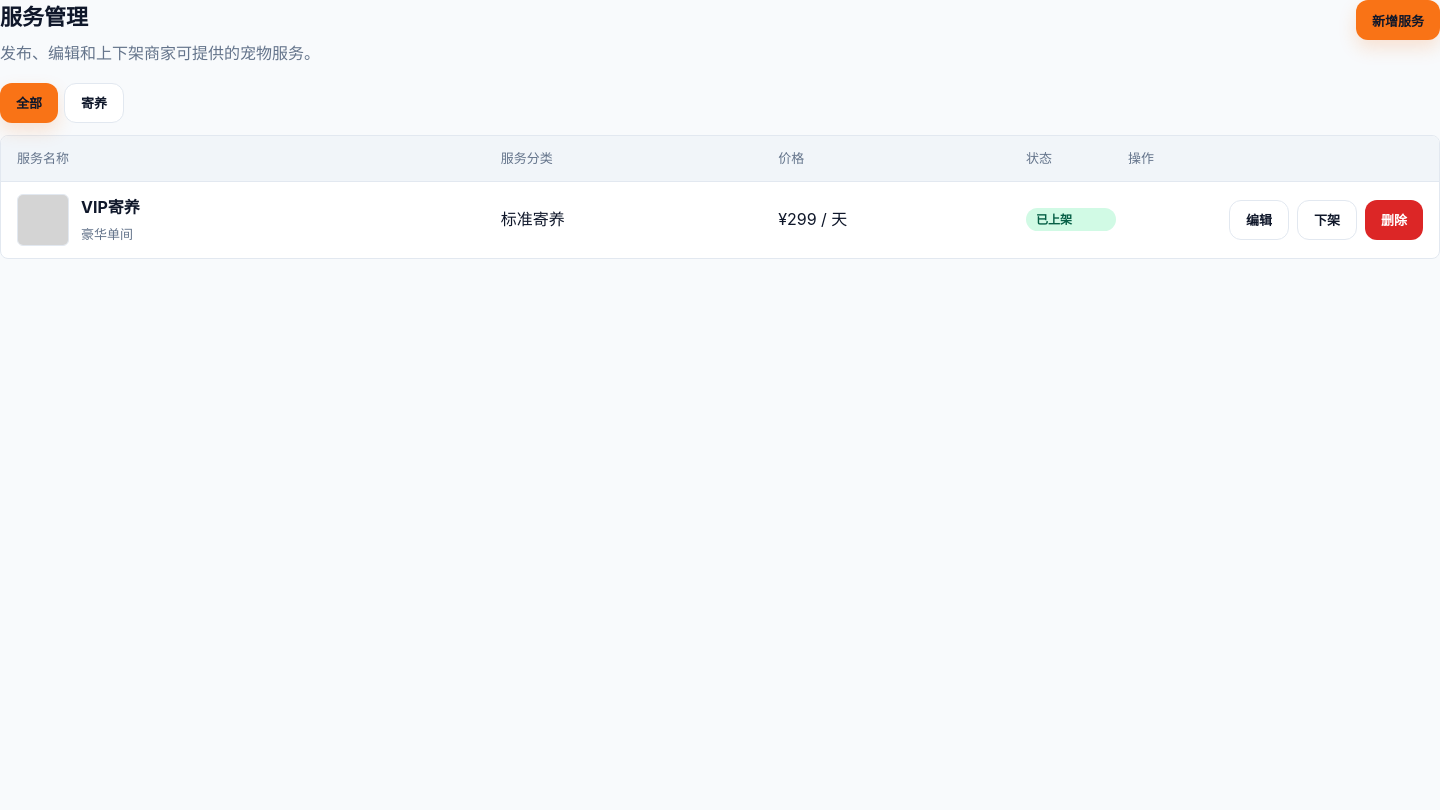
Test: MerchantServices 服务产品编辑器 › F-MGT-011 单位受控选择仅提供 day/session/hour 三个规范单位
The image size is (1440, 810).
Click the button "新增服务" at (1398, 20), box [1356, 0, 1439, 40]
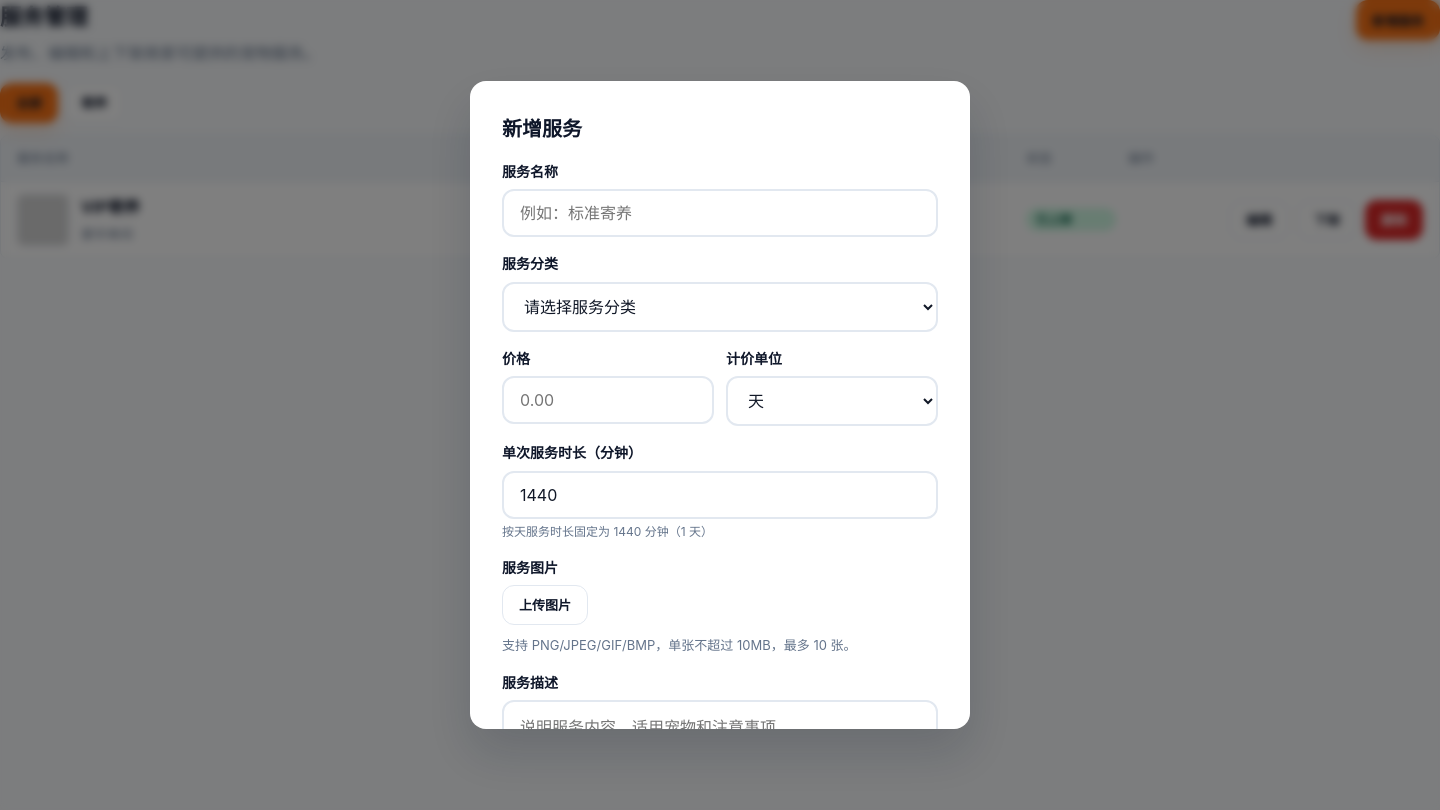
Result: the dropdown with test id "unit-select" is shown at [726, 376, 938, 426]
